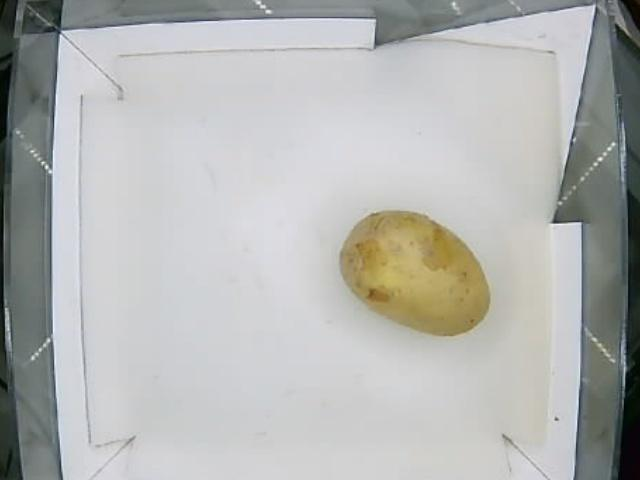Potato: (339, 212, 492, 339)
